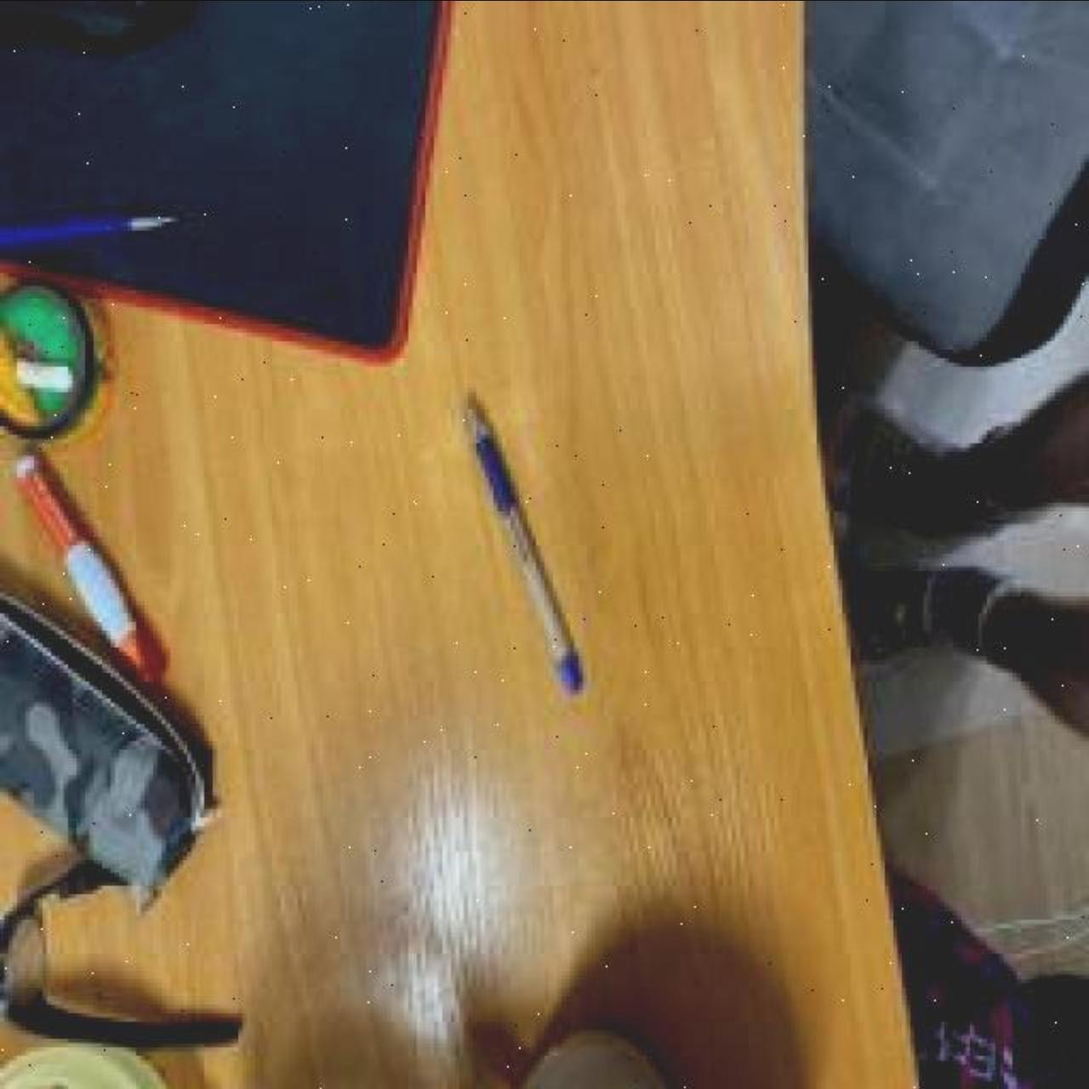pen: (459, 391, 587, 689)
